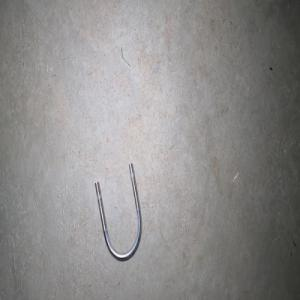ClampPart: (94, 162, 142, 262)
